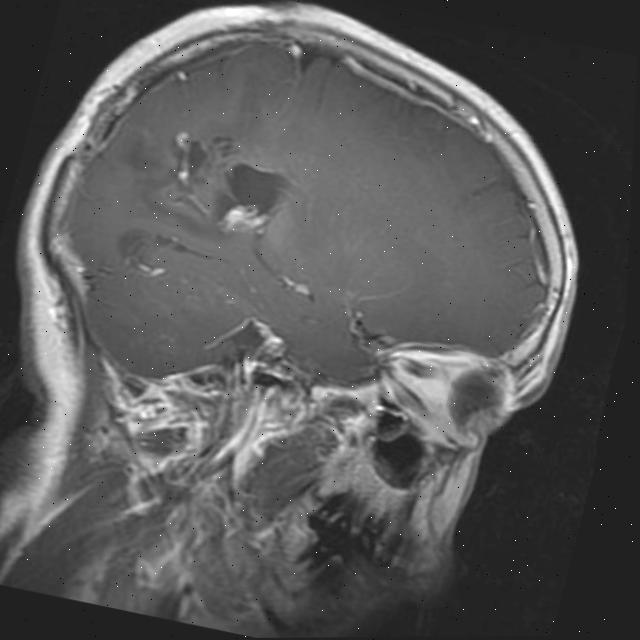Glioma: (158, 124, 240, 208)
